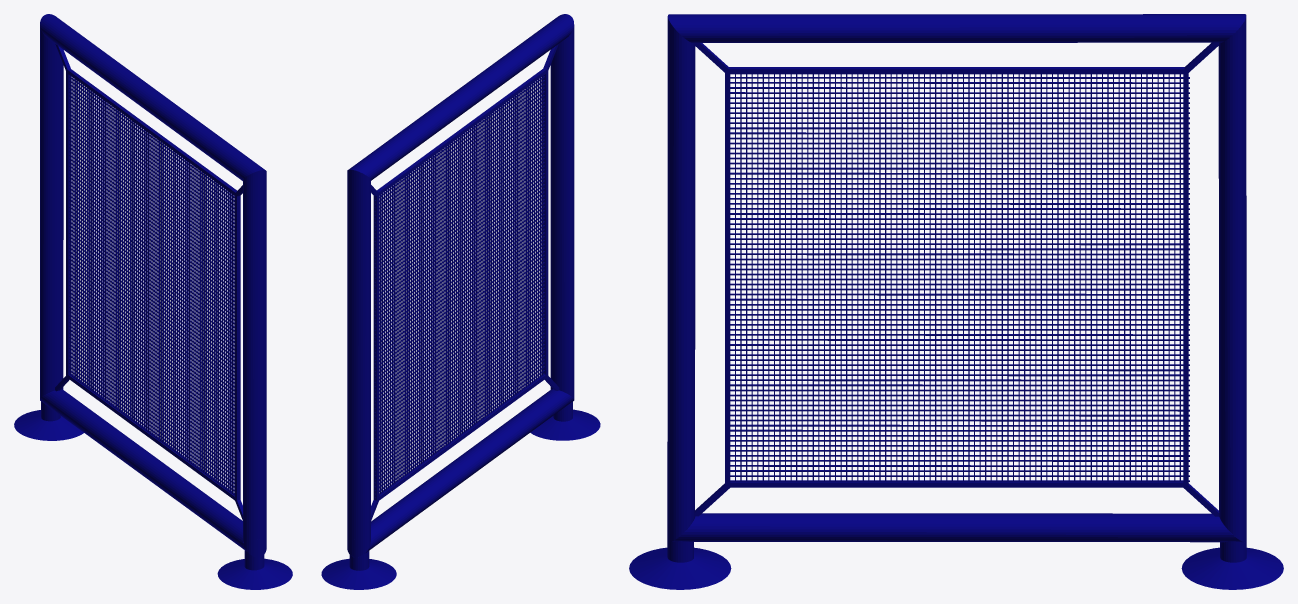
File: Grade.obj
The picture shows the model from 3 angles, left to right: view 1: azimuth 30°, elevation 25°; view 2: azimuth 150°, elevation 25°; view 3: azimuth 270°, elevation 25°; orthographic projection. The views are drawn at different scales.
Visible parts, largest first — view 1: Cylinder.002_Cylinder.004, Cylinder_Cylinder.001, Cylinder.001_Cylinder.003, Cylinder.003_Cylinder.005, Cube.004, Cone, Cube.005, Cone.001, Cube.006, Cube.007, Cube.085_Cube.116, Cube.036_Cube.067 (+79 smaller); view 2: Cylinder_Cylinder.001, Cylinder.002_Cylinder.004, Cylinder.001_Cylinder.003, Cylinder.003_Cylinder.005, Cube.005, Cone.001, Cube.004, Cone, Cube.006, Cube.007, Cube.048_Cube.079, Cube.068_Cube.099 (+79 smaller); view 3: Cylinder.001_Cylinder.003, Cylinder.003_Cylinder.005, Cylinder.002_Cylinder.004, Cylinder_Cylinder.001, Cube.006, Cube.007, Cone.001, Cone, Cube.005, Cube.004, Cube.157_Cube.188, Cube.108_Cube.139 (+79 smaller).
Boxes of the visible parts, left/top/right/bottom form: Cylinder.002_Cylinder.004: left=243, top=170, right=266, bottom=557; Cylinder_Cylinder.001: left=40, top=14, right=63, bottom=398; Cylinder.001_Cylinder.003: left=40, top=14, right=265, bottom=180; Cylinder.003_Cylinder.005: left=40, top=389, right=246, bottom=551; Cube.004: left=235, top=194, right=240, bottom=501; Cone: left=217, top=558, right=292, bottom=589; Cube.005: left=66, top=70, right=70, bottom=377; Cone.001: left=14, top=410, right=83, bottom=440; Cube.006: left=67, top=69, right=236, bottom=196; Cube.007: left=67, top=374, right=236, bottom=500; Cube.085_Cube.116: left=90, top=91, right=92, bottom=389; Cube.036_Cube.067: left=174, top=152, right=176, bottom=451; Cylinder_Cylinder.001: left=347, top=169, right=370, bottom=557; Cylinder.002_Cylinder.004: left=550, top=25, right=574, bottom=401; Cylinder.001_Cylinder.003: left=348, top=14, right=573, bottom=180; Cylinder.003_Cylinder.005: left=358, top=389, right=573, bottom=557; Cube.005: left=373, top=194, right=379, bottom=501; Cone.001: left=321, top=558, right=396, bottom=589; Cube.004: left=543, top=71, right=548, bottom=374; Cone: left=530, top=409, right=600, bottom=440; Cube.006: left=377, top=68, right=547, bottom=196; Cube.007: left=378, top=374, right=547, bottom=501; Cube.048_Cube.079: left=457, top=137, right=459, bottom=436; Cube.068_Cube.099: left=418, top=166, right=420, bottom=465; Cylinder.001_Cylinder.003: left=667, top=14, right=1245, bottom=42; Cylinder.003_Cylinder.005: left=672, top=513, right=1244, bottom=542; Cylinder.002_Cylinder.004: left=667, top=17, right=695, bottom=542; Cylinder_Cylinder.001: left=1218, top=14, right=1246, bottom=541; Cube.006: left=726, top=67, right=1186, bottom=74; Cube.007: left=726, top=481, right=1186, bottom=487; Cone.001: left=1181, top=547, right=1283, bottom=589; Cone: left=629, top=547, right=731, bottom=589; Cube.005: left=1183, top=70, right=1188, bottom=487; Cube.004: left=725, top=70, right=730, bottom=487; Cube.157_Cube.188: left=730, top=127, right=1189, bottom=129; Cube.108_Cube.139: left=730, top=384, right=1189, bottom=386.
Bounding box in the file's own units: 0.3677 × 2.19 × 2.36.
